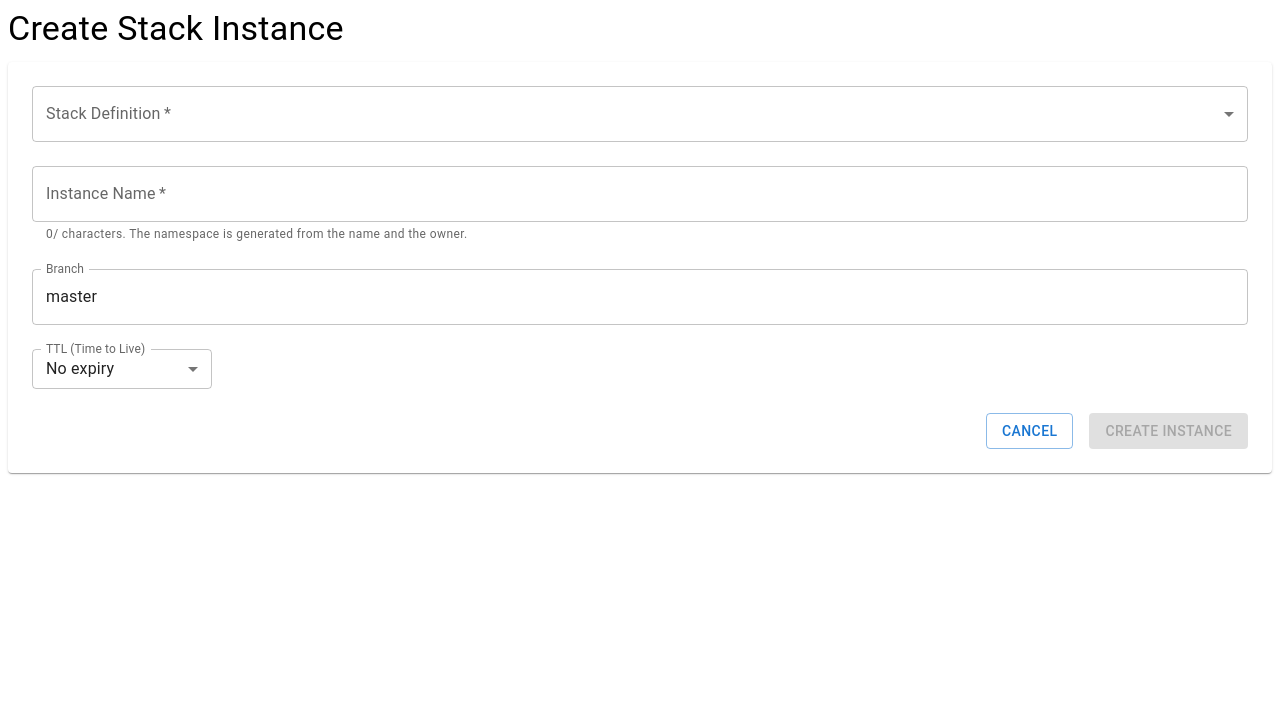
Test: StackInstances Form › offers all definitions, also past the first API page
Check: the heading "Create Stack Instance" is shown, box [8,8,344,48]
Click the dropdown named "stack definition" at {"x": 640, "y": 114}, box [32,86,1248,142]
(page scrolled)
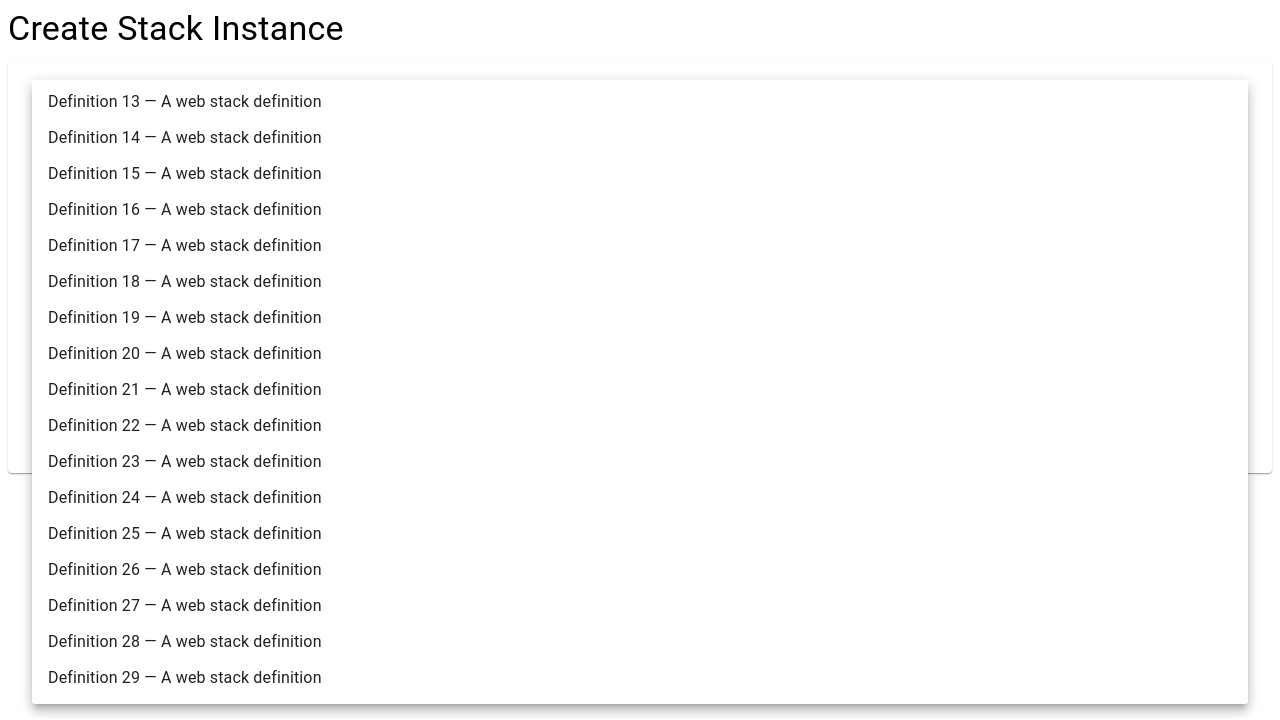
Check: the option "Definition 29 — A web stack definition" is shown, box [48,668,322,687]
